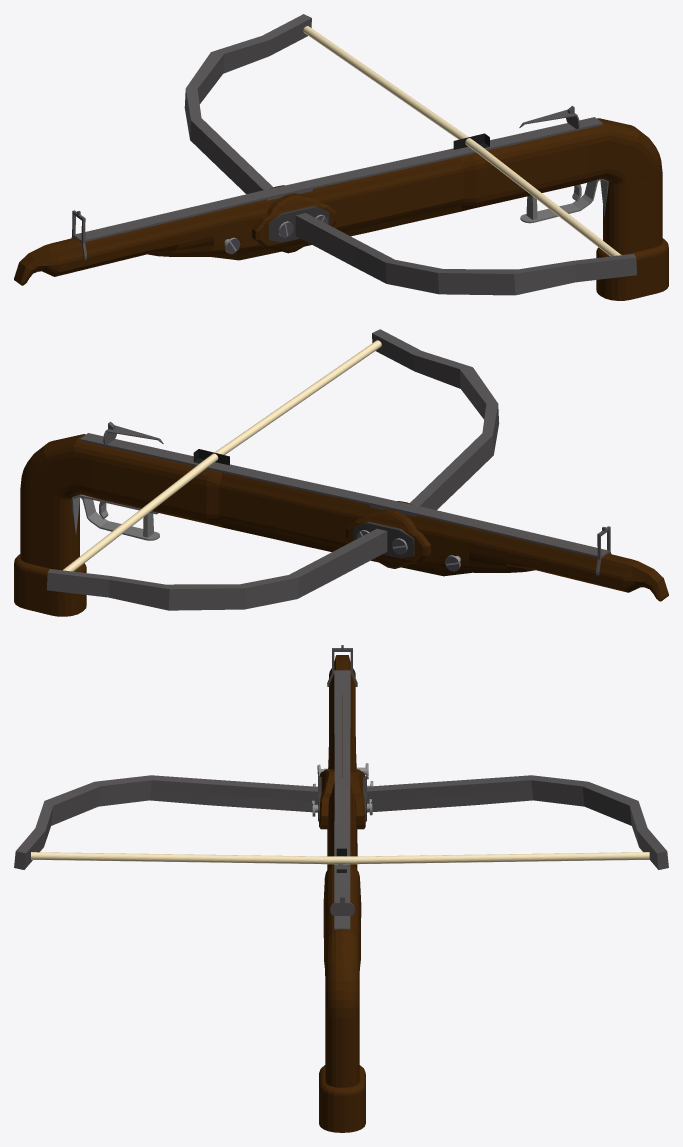
Rendered from Kusza_.fbx.
3 views of the same model, one above another, from view 1: azimuth 30°, elevation 25°; view 2: azimuth 150°, elevation 25°; view 3: azimuth 270°, elevation 25° (orthographic). The views are drawn at different scales.
Visible parts, largest first — view 1: Cube.009, Cube.003; view 2: Cube.009, Cube.003; view 3: Cube.009, Cube.003.
Boxes of the visible parts, x1,y1,x2,y2 form: Cube.009: (14, 14, 668, 300); Cube.003: (303, 26, 621, 256); Cube.009: (14, 329, 668, 616); Cube.003: (62, 340, 381, 571); Cube.009: (14, 645, 668, 1132); Cube.003: (31, 848, 649, 872).
Size of the model in its own units: 3127 by 974 by 2795.
